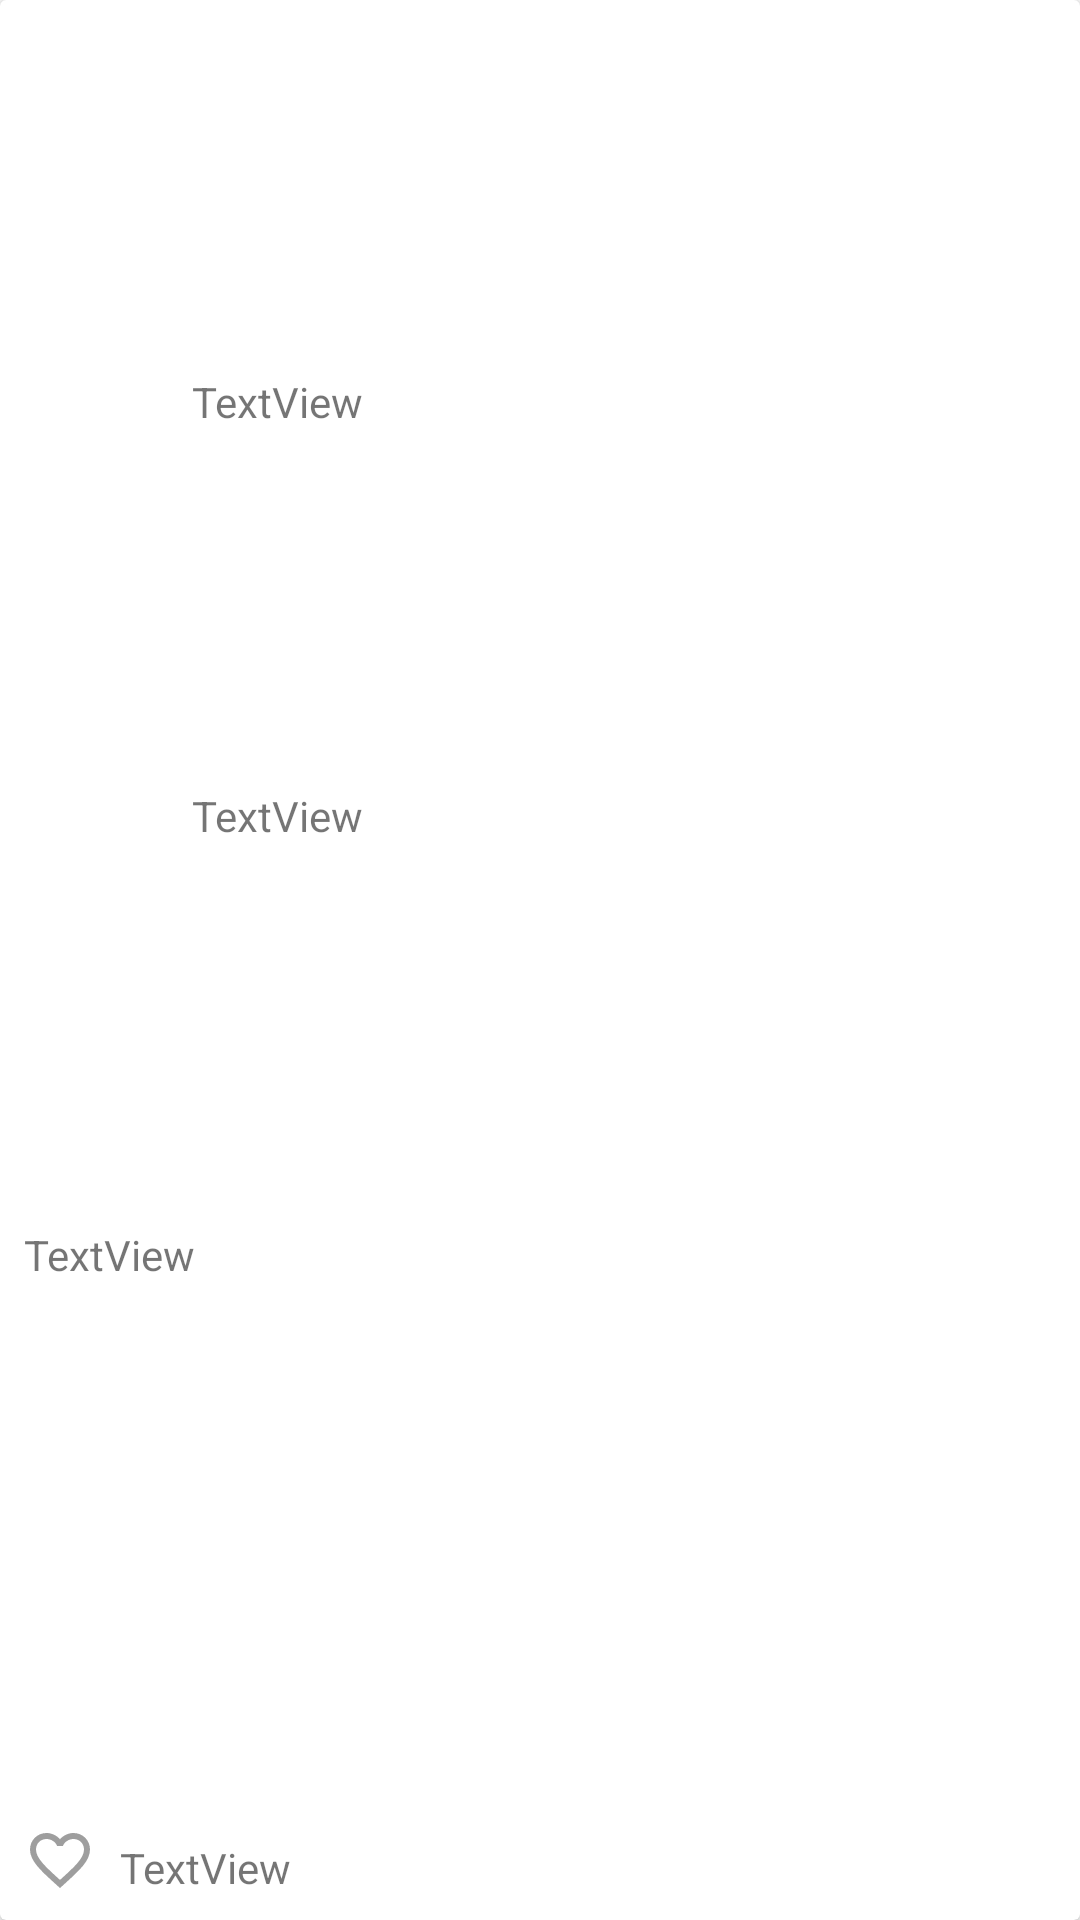

Screen size 1080x1920. Icon name, then its box in pixels as (x1, y1, x2, y2):
favorite border: (30, 1833, 90, 1888)
